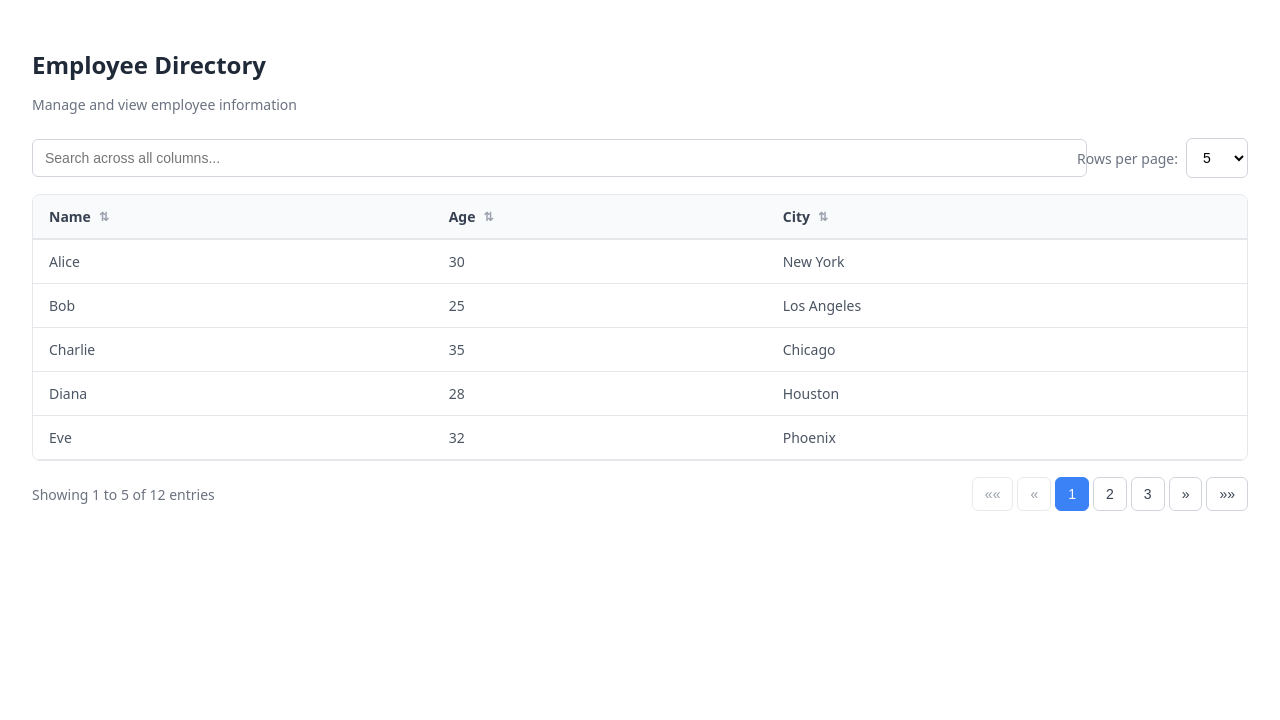
Test: DataTable Component › Pagination › changes page size correctly
Select "10" in the dropdown with test id "page-size-select" at (1217, 158), box 1186,138 -> 1248,178
(page scrolled)
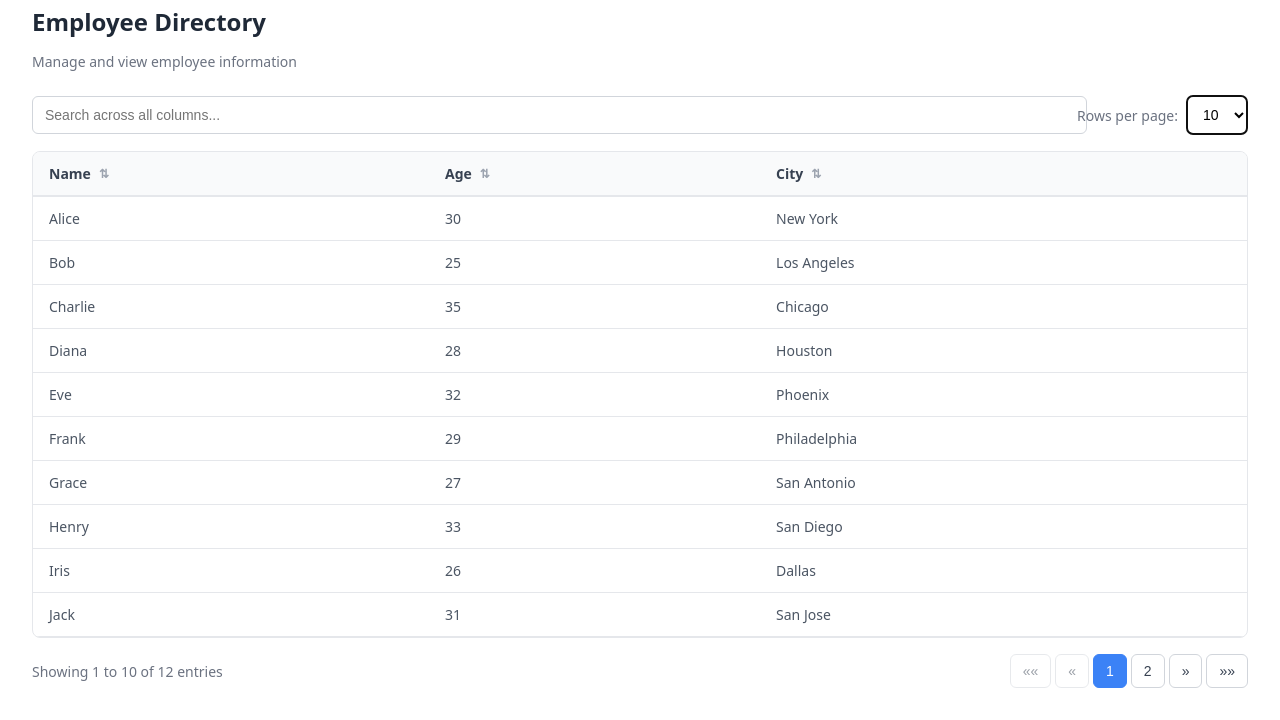
Now the text with test id "page-info" reads "Showing 1 to 10 of 12 entries", box 32,662 -> 223,681
